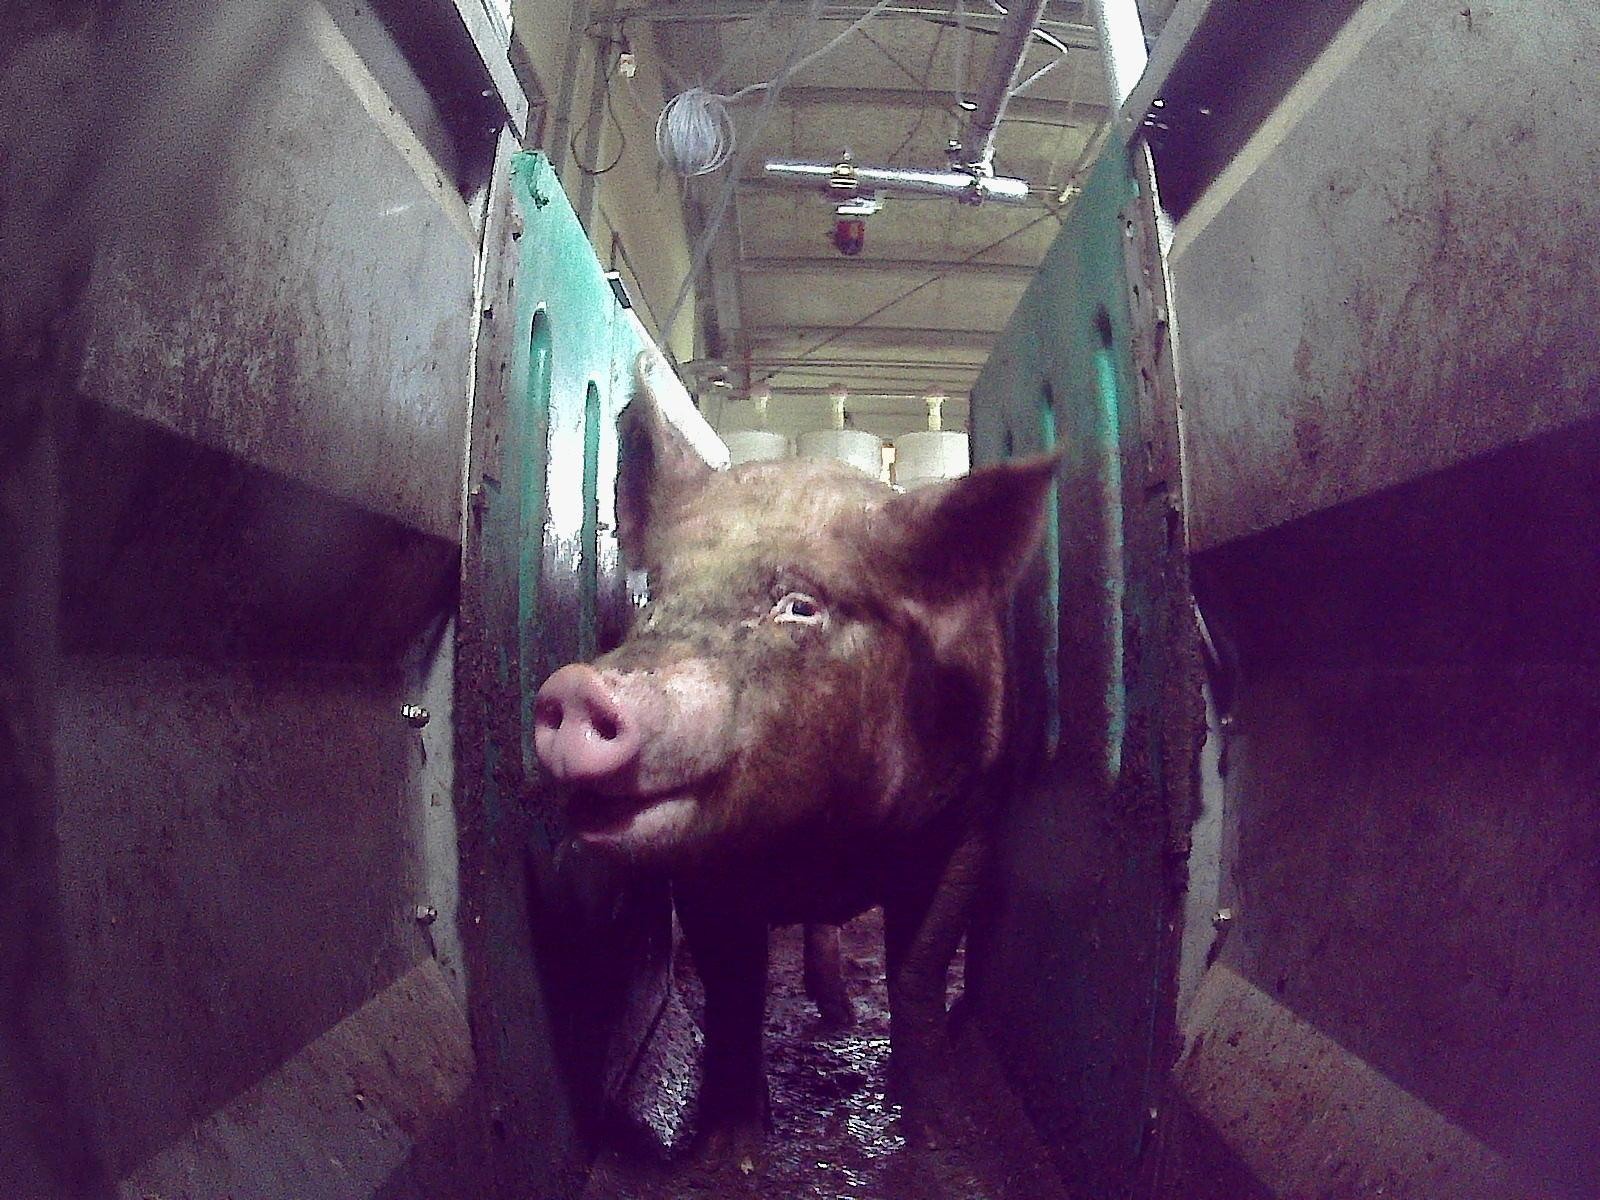Face: (533, 480, 906, 869)
